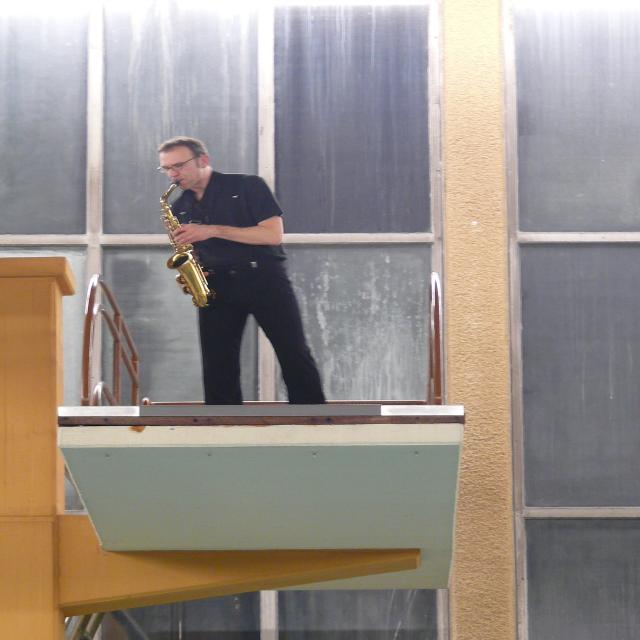saxophone: (149, 178, 223, 308)
